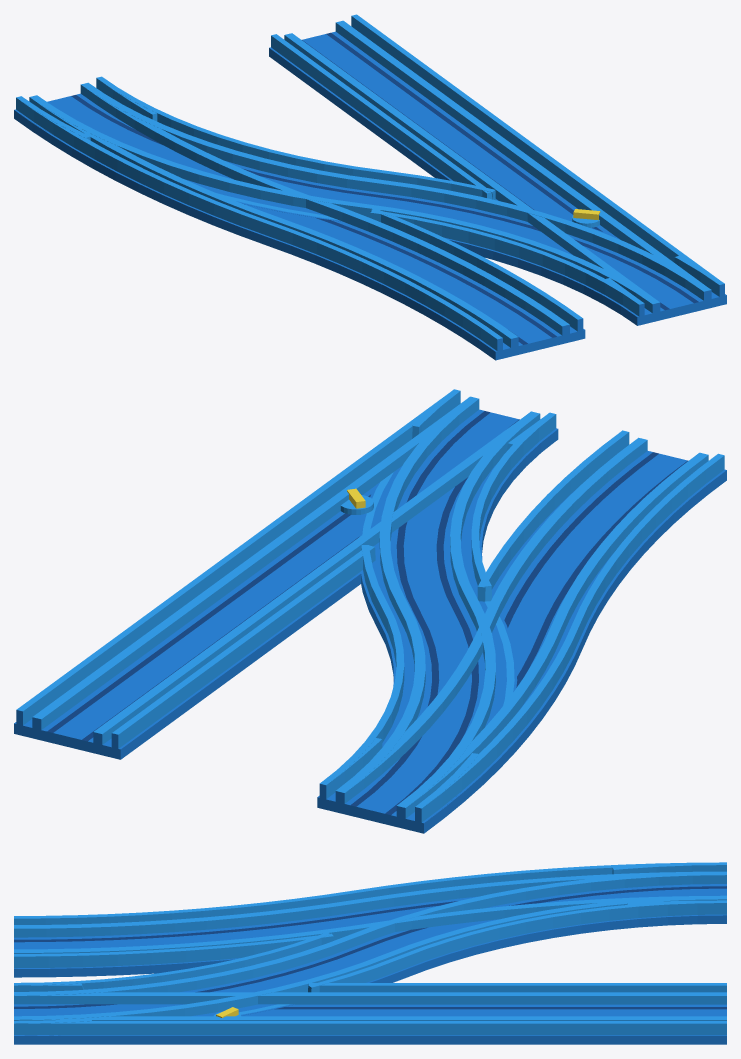
File: Track_Double_Wide_Left.fbx
The picture shows the model from 3 angles, top to bottom: view 1: azimuth 30°, elevation 25°; view 2: azimuth 150°, elevation 25°; view 3: azimuth 270°, elevation 25°; orthographic projection. The views are drawn at different scales.
Parts seen in each view (by area): view 1: Bed cross, Bed move, Bed stay; view 2: Bed cross, Bed stay, Bed move; view 3: Bed stay, Bed cross, Bed move.
Part boxes in pixels (left/top/right/bottom): Bed cross: left=14, top=76, right=726, bottom=325; Bed move: left=14, top=78, right=585, bottom=360; Bed stay: left=269, top=14, right=726, bottom=325; Bed cross: left=317, top=389, right=558, bottom=823; Bed stay: left=14, top=393, right=541, bottom=759; Bed move: left=324, top=430, right=726, bottom=833; Bed stay: left=14, top=983, right=726, bottom=1044; Bed cross: left=14, top=862, right=726, bottom=1035; Bed move: left=14, top=862, right=702, bottom=977.
Size of the model in its own units: 406 by 23.41 by 750.
